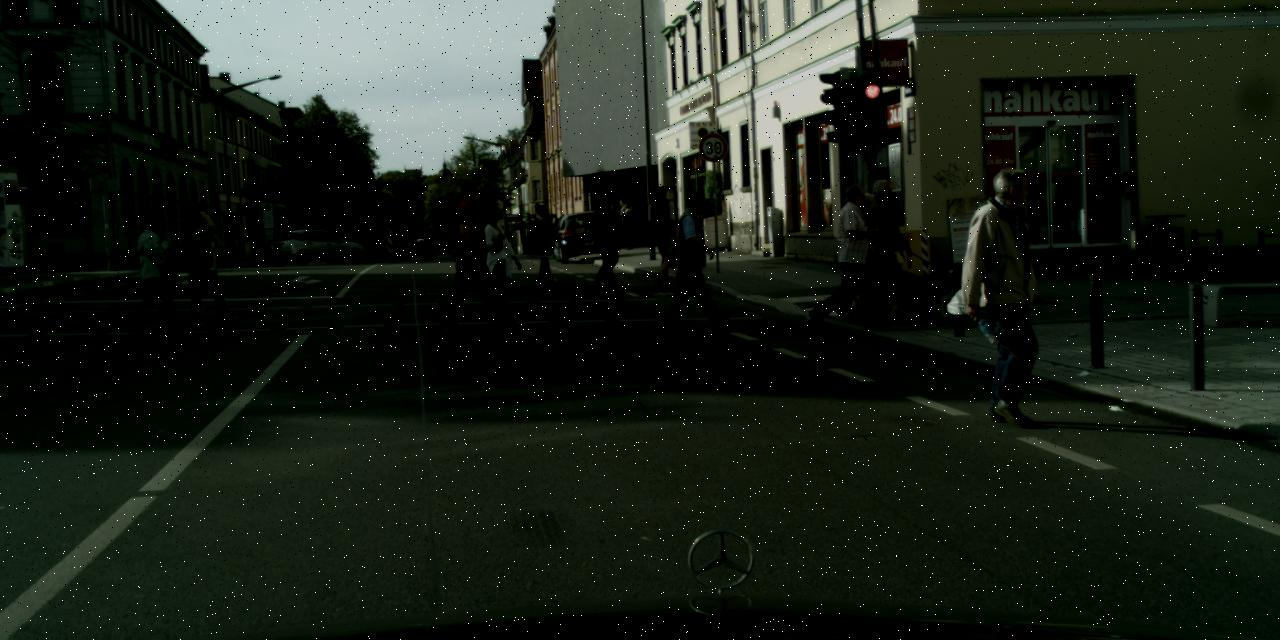ped: (956, 168, 1060, 420), (448, 180, 508, 328), (819, 183, 878, 328), (854, 178, 912, 321), (671, 192, 725, 325), (840, 192, 890, 316), (132, 212, 180, 330), (470, 203, 518, 321), (184, 211, 230, 325), (642, 185, 682, 284), (585, 192, 624, 287), (528, 204, 560, 285), (610, 200, 638, 249)
